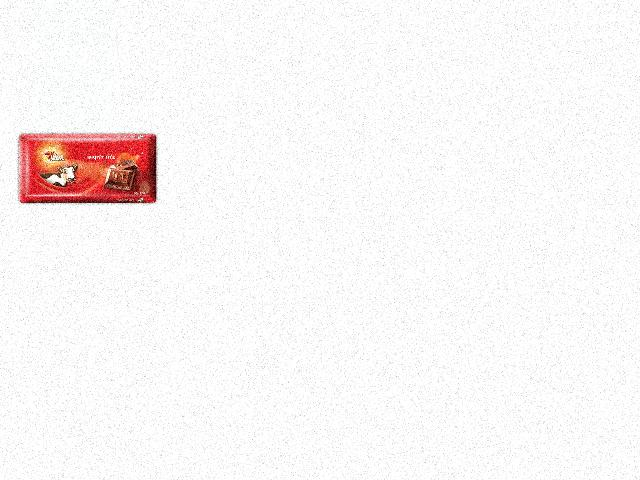chocolate: (11, 133, 158, 208)
